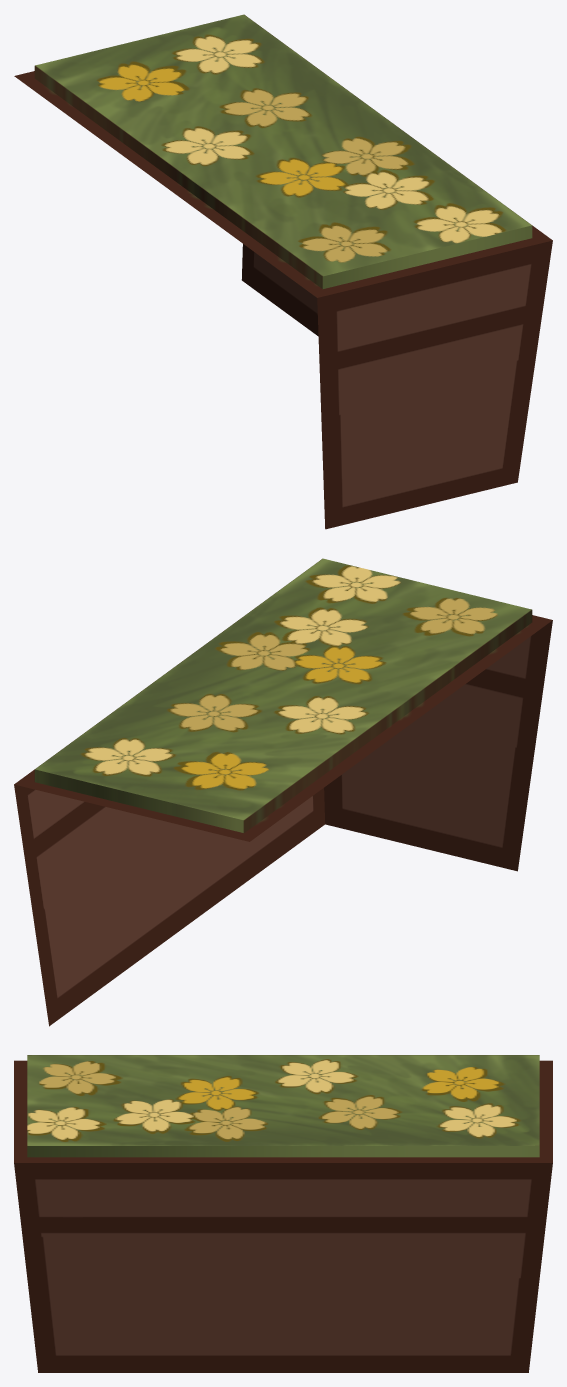
Rendered from decoration small flowers.glb.
3 views of the same model, one above another, from view 1: azimuth 30°, elevation 25°; view 2: azimuth 150°, elevation 25°; view 3: azimuth 270°, elevation 25° (orthographic). The views are drawn at different scales.
Parts seen in each view (by area): view 1: grass.001; view 2: grass.001; view 3: grass.001.
Part boxes in pixels (x1,y1,x2,y2): grass.001: [14, 14, 552, 529]; grass.001: [14, 558, 552, 1026]; grass.001: [14, 1055, 552, 1372].
Size of the model in its own units: 0.4067 by 0.4278 by 0.9061.
Materials: 1 (1 with a texture image).
